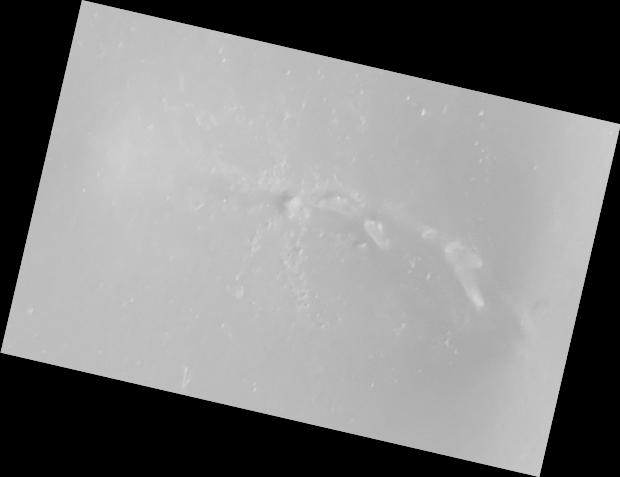dent: (1, 0, 620, 476)
